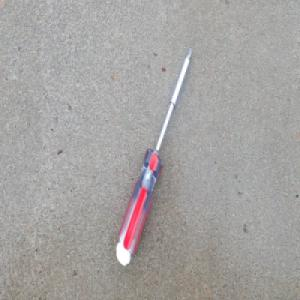Screwdriver: (114, 45, 193, 269)
